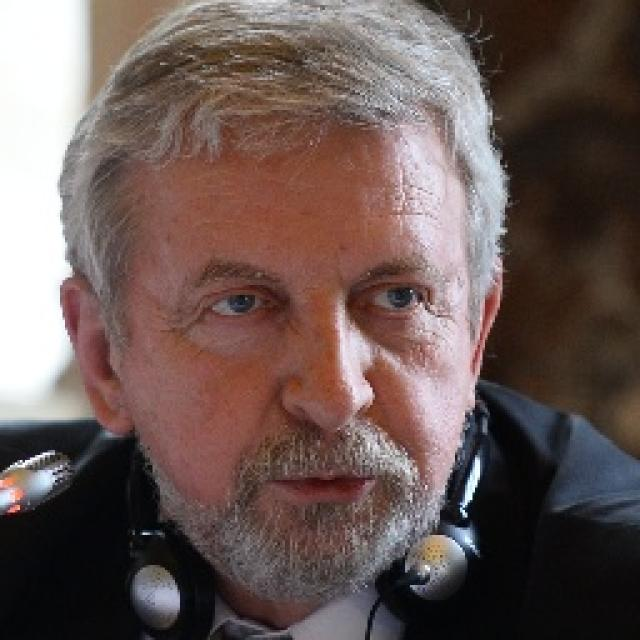earlobe: (94, 402, 138, 437), (463, 375, 482, 418)
eye: (361, 286, 430, 314), (198, 290, 272, 316)
nose: (278, 407, 372, 462)
wholeear: (60, 280, 139, 438), (466, 256, 503, 414)
